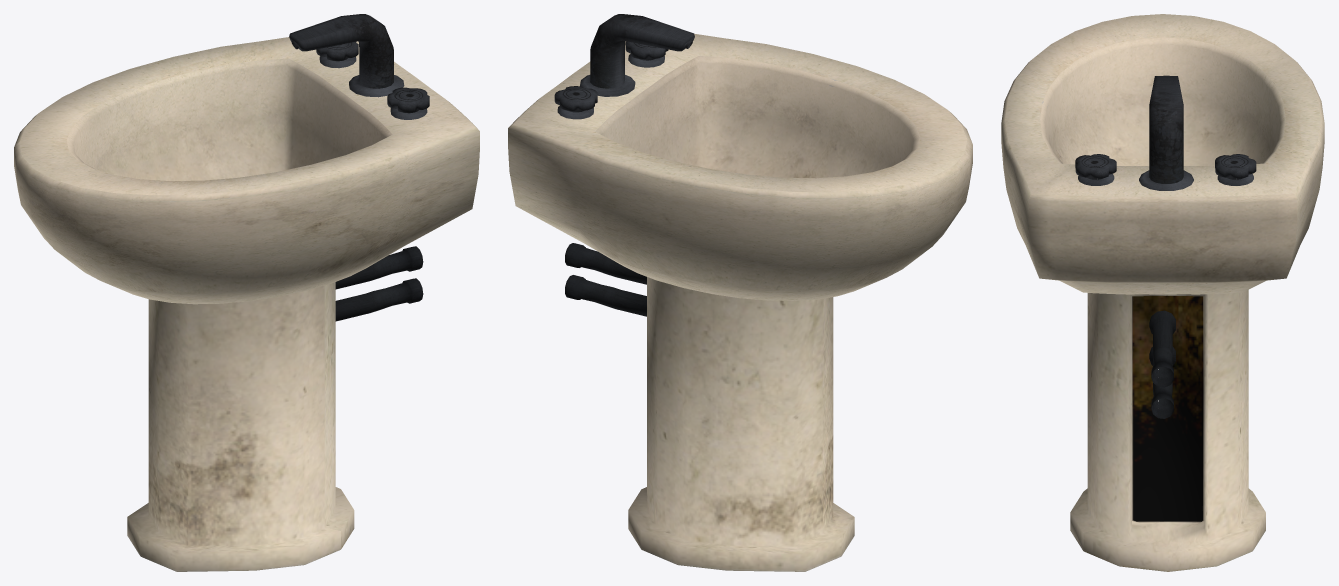
The model's file is FPH_Bidet.fbx.
3 views of the same model, side by side, from view 1: azimuth 30°, elevation 25°; view 2: azimuth 150°, elevation 25°; view 3: azimuth 270°, elevation 25° (orthographic).
Visible parts, largest first — view 1: FPH_Bidet; view 2: FPH_Bidet; view 3: FPH_Bidet.
Part boxes in pixels (box(x1,y1,x2,y2)): FPH_Bidet: box(14, 14, 479, 571); FPH_Bidet: box(508, 14, 972, 571); FPH_Bidet: box(1001, 14, 1324, 571).
Bounding box in the file's own units: 3.15 × 3.74 × 2.3.
Materials: 1 (1 with a texture image).
